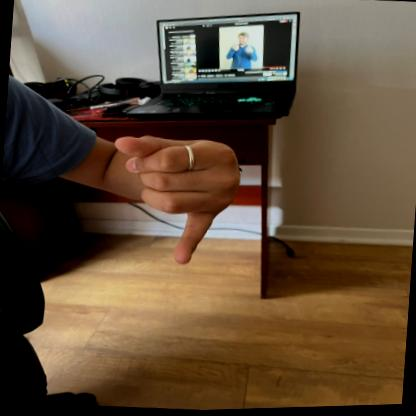Z: (106, 125, 246, 269)
